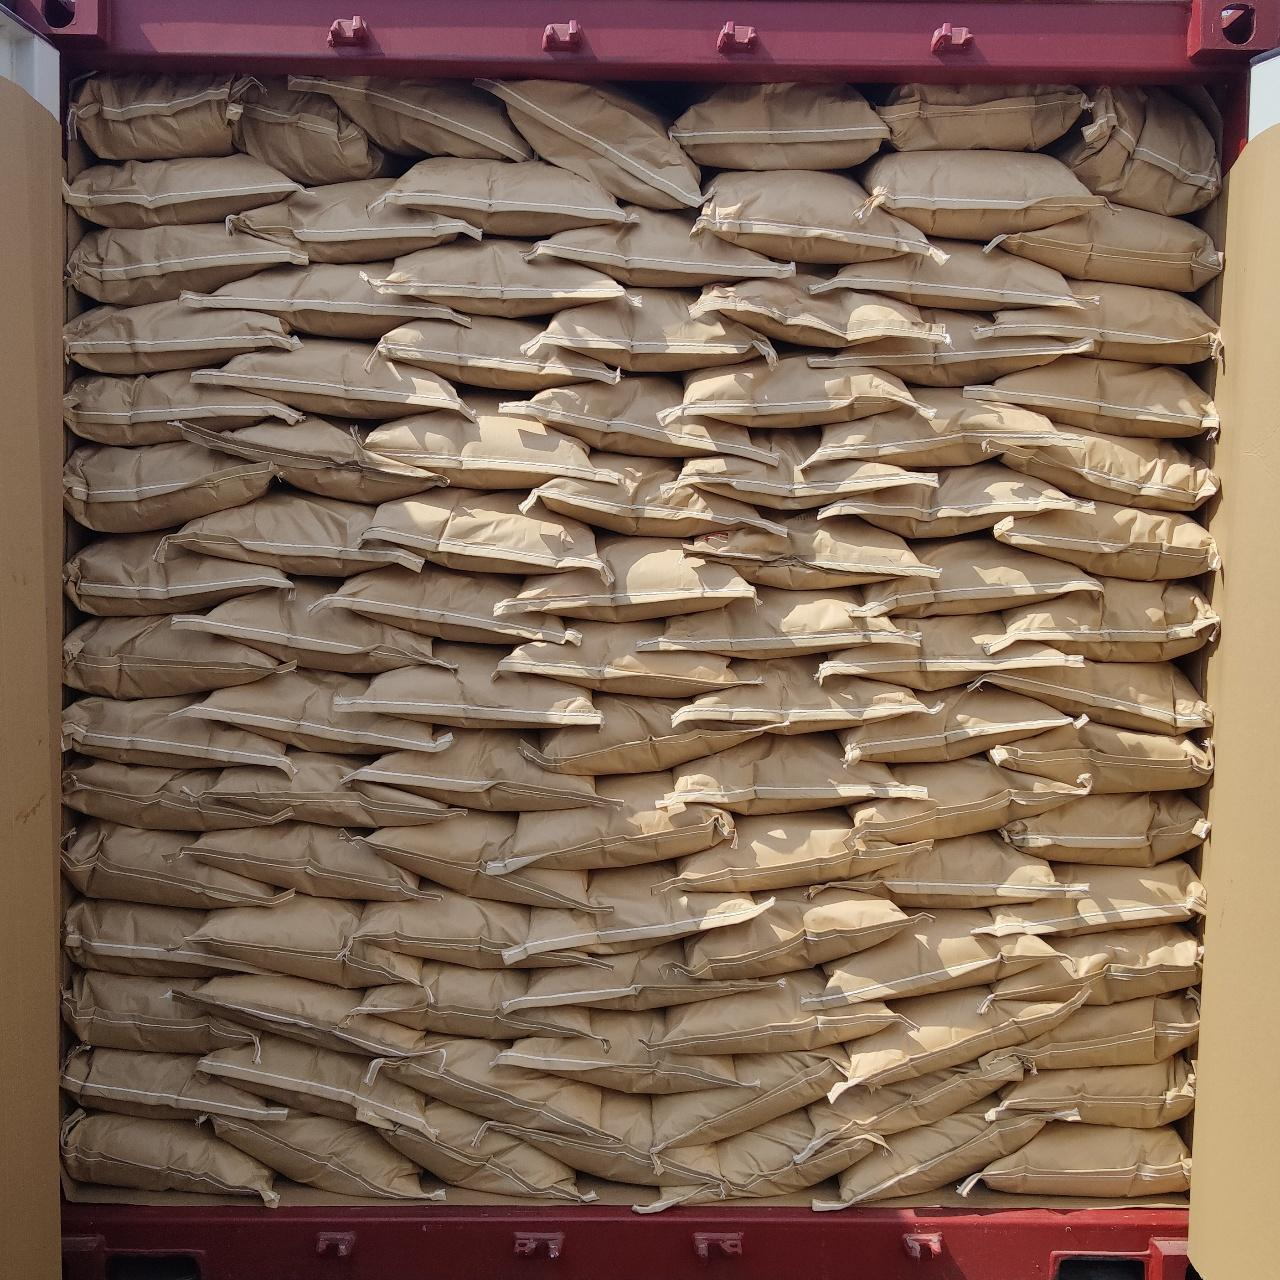sack: (480, 80, 700, 206), (634, 1106, 879, 1213), (800, 910, 1062, 1008), (370, 1036, 616, 1140), (512, 862, 768, 960), (174, 580, 448, 670), (502, 374, 774, 462), (360, 810, 596, 910), (834, 1102, 1054, 1206), (368, 390, 606, 486), (190, 668, 450, 754), (502, 772, 732, 868), (198, 1036, 428, 1132), (846, 988, 1078, 1082), (168, 488, 420, 574), (336, 642, 594, 726), (196, 338, 466, 418), (1052, 84, 1218, 214), (182, 418, 438, 502), (658, 732, 920, 814), (862, 150, 1104, 238), (504, 534, 750, 620), (184, 264, 468, 338), (530, 206, 792, 286), (984, 204, 1222, 292), (696, 172, 928, 262), (314, 564, 574, 644), (380, 1102, 588, 1202), (670, 430, 934, 508), (810, 310, 1088, 384), (966, 356, 1216, 438), (650, 970, 900, 1052), (977, 577, 1218, 662), (526, 454, 782, 534), (296, 70, 528, 158), (686, 886, 912, 976), (812, 388, 1066, 468), (62, 818, 292, 906), (208, 1114, 438, 1202), (192, 896, 422, 984), (354, 730, 606, 810), (172, 974, 424, 1054), (228, 180, 478, 260), (64, 1110, 276, 1204), (848, 758, 1084, 842), (650, 1050, 844, 1152), (364, 490, 604, 572), (818, 462, 1090, 534), (498, 1010, 736, 1092), (208, 750, 464, 826), (532, 290, 774, 370), (526, 694, 766, 774), (384, 238, 630, 316), (384, 158, 630, 236), (810, 834, 1076, 906), (980, 282, 1218, 362), (814, 240, 1086, 310), (818, 614, 1082, 686), (674, 658, 930, 732), (500, 620, 756, 694), (674, 810, 916, 888), (808, 1054, 1022, 1142), (528, 1089, 720, 1187), (640, 588, 908, 658), (856, 538, 1102, 614), (688, 512, 934, 588), (690, 270, 928, 348), (352, 962, 596, 1038), (178, 824, 420, 900), (64, 444, 272, 532), (70, 224, 304, 302), (842, 686, 1082, 762), (1002, 426, 1218, 510), (62, 696, 294, 774), (674, 82, 884, 168), (230, 76, 400, 182), (66, 534, 290, 614), (982, 924, 1200, 1006), (376, 316, 616, 390), (64, 616, 290, 694), (672, 354, 916, 426), (508, 944, 770, 1010), (994, 502, 1218, 578), (66, 372, 302, 444), (972, 662, 1212, 732), (66, 300, 298, 372), (958, 1124, 1190, 1196), (66, 154, 304, 224), (978, 860, 1202, 934), (64, 970, 256, 1054), (62, 1046, 282, 1118), (996, 992, 1198, 1068), (74, 70, 246, 158), (66, 898, 258, 976), (878, 78, 1086, 150), (992, 722, 1212, 790), (988, 1054, 1192, 1126), (354, 884, 532, 966), (64, 758, 266, 830), (1000, 792, 1206, 862)
